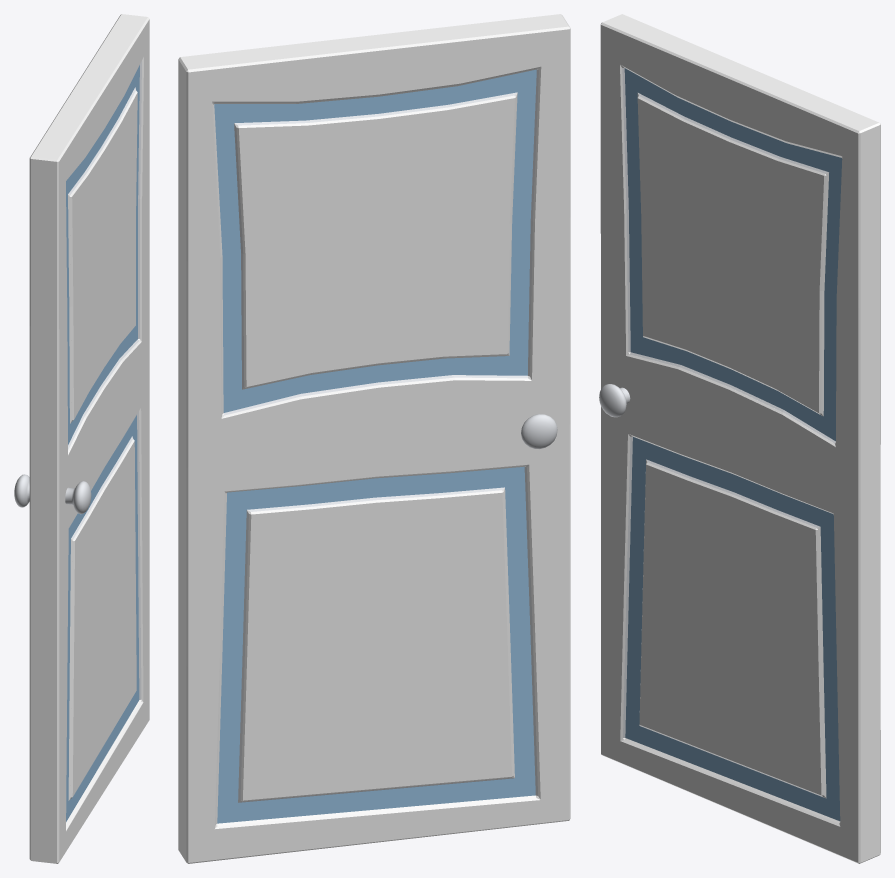
File: Door.001.fbx
3 views of the same model, side by side, from view 1: azimuth 30°, elevation 25°; view 2: azimuth 150°, elevation 25°; view 3: azimuth 270°, elevation 25° (orthographic). The views are drawn at different scales.
Visible parts, largest first — view 1: Door.001; view 2: Door.001; view 3: Door.001.
Boxes of the visible parts, x1,y1,x2,y2 form: Door.001: (14, 14, 149, 863); Door.001: (178, 14, 570, 863); Door.001: (599, 14, 880, 863).
Size of the model in its own units: 0.6534 by 1.88 by 0.6541.
